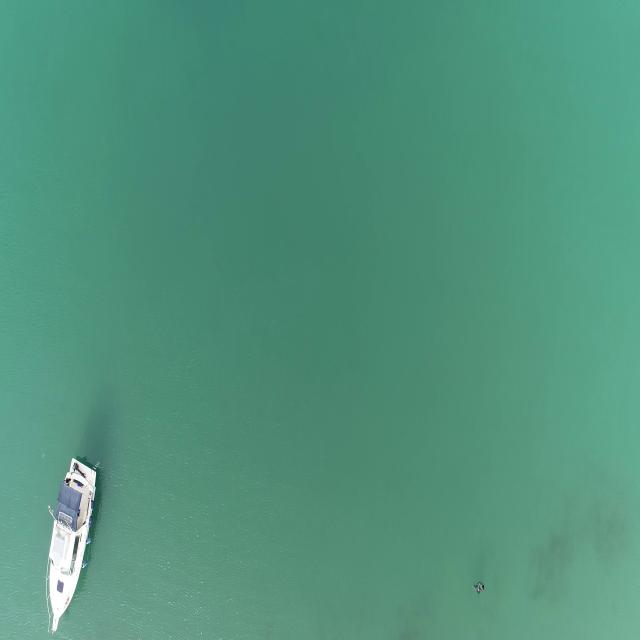boat: (42, 454, 104, 632)
person: (472, 578, 487, 599)
